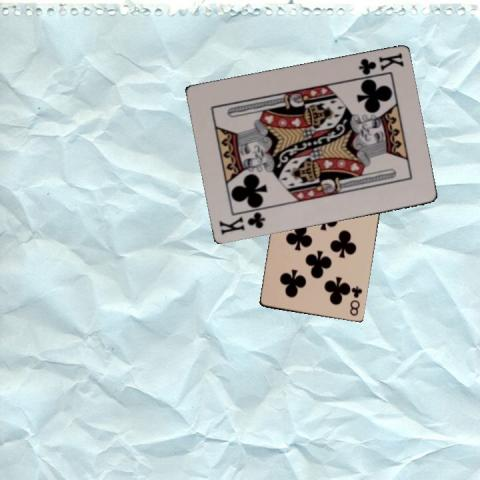8c: (347, 284, 364, 318)
Kc: (215, 210, 267, 237), (355, 50, 405, 77)
